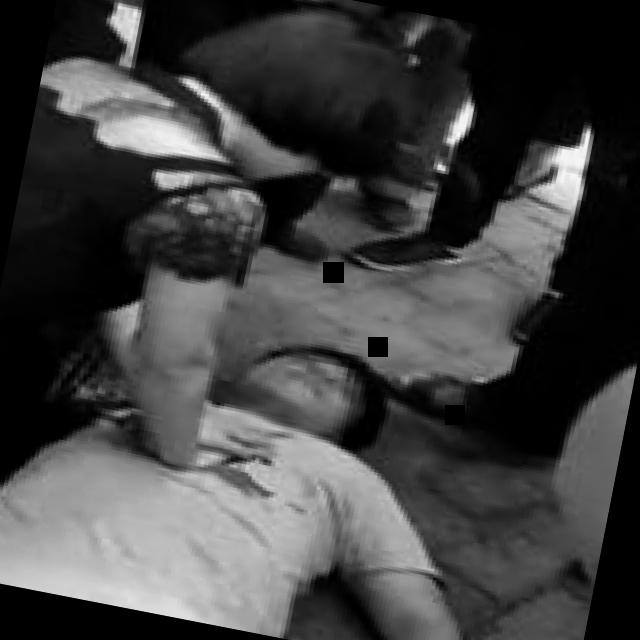Fall-Detected: (0, 269, 588, 640)
